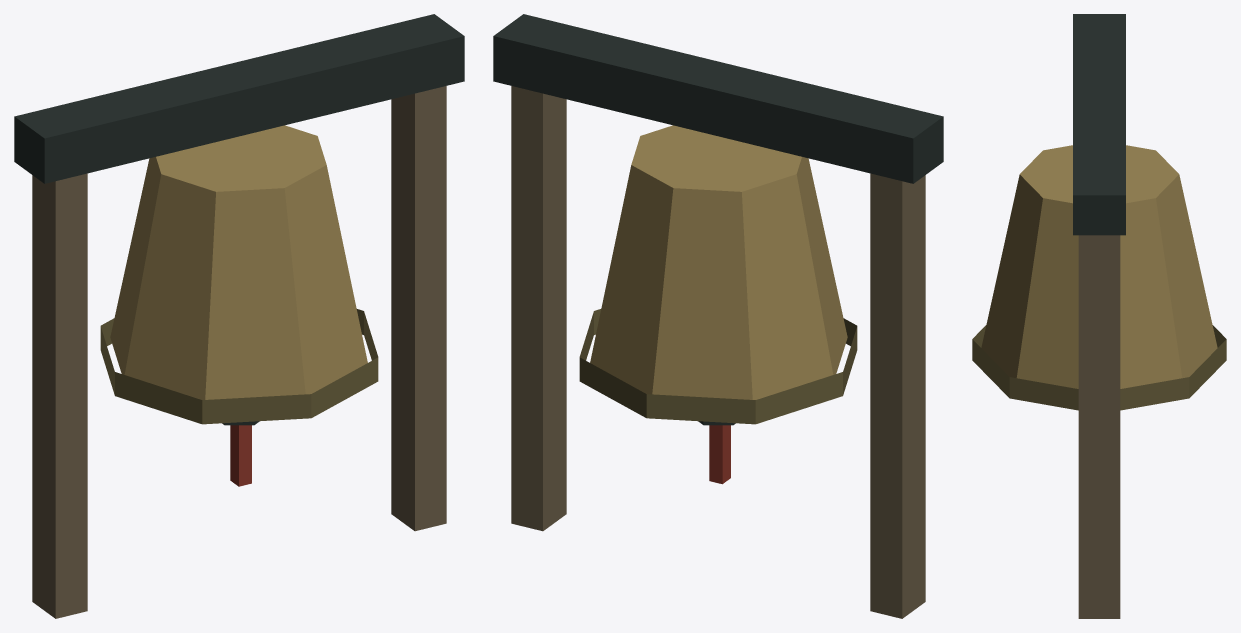
The model's file is bell.glb.
3 views of the same model, side by side, from view 1: azimuth 30°, elevation 25°; view 2: azimuth 150°, elevation 25°; view 3: azimuth 270°, elevation 25° (orthographic). The views are drawn at different scales.
Parts seen in each view (by area): view 1: bell; view 2: bell; view 3: bell.
Part boxes in pixels (x1,y1,x2,y2): bell: [14, 14, 464, 618]; bell: [493, 14, 943, 618]; bell: [972, 14, 1226, 618].
Bounding box in the file's own units: 1.45 × 1.61 × 0.86.
